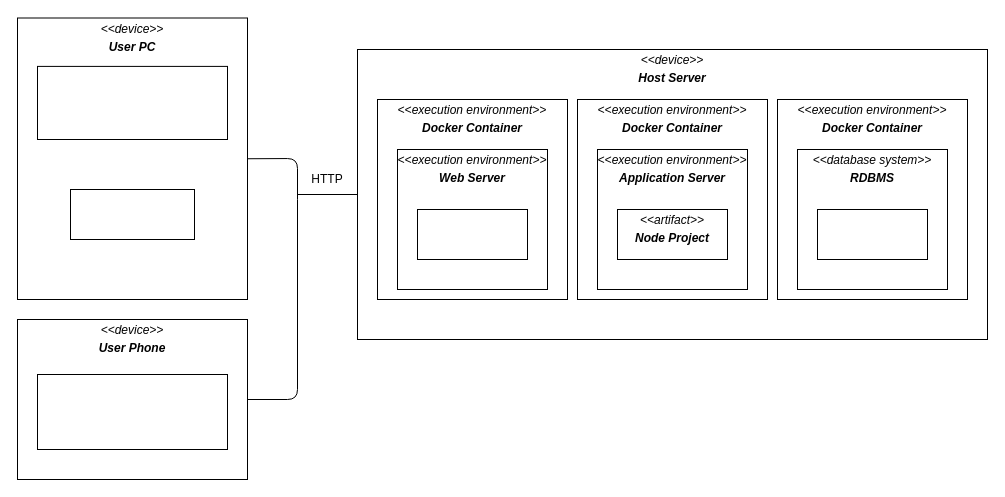
The diagram is 1005 pixels wide and 497 high, and some of its shapes have lost their labels. Each missing label, with the centre of its shape:
"<< execution environment >> Web Browser" belongs at point (132, 102).
"<<artifact>> android_app.apk/ ios_app.ipa" belongs at point (132, 412).
"<<artifact>> desktop_app.exe" belongs at point (132, 214).
"<<artifact>> MySQL Database" belongs at point (872, 234).
"<<artifact>> React Project" belongs at point (472, 234).
